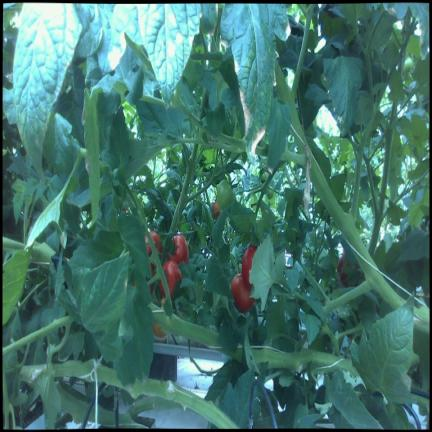6kp_petiole: (344, 243, 394, 305), (282, 120, 322, 186), (328, 178, 362, 254), (275, 59, 304, 137), (153, 278, 188, 338), (176, 177, 197, 214), (182, 143, 199, 182), (371, 193, 385, 239)
MainStem: (276, 60, 405, 311), (51, 358, 240, 429), (147, 302, 243, 363), (251, 347, 360, 376), (169, 144, 199, 234), (368, 198, 384, 257), (381, 129, 394, 194)
tomato: (160, 234, 188, 297), (231, 274, 255, 312), (337, 251, 361, 286), (242, 244, 257, 287), (169, 234, 189, 264), (216, 179, 234, 210), (145, 230, 162, 254), (212, 201, 220, 218), (404, 57, 412, 71), (266, 188, 274, 199), (261, 173, 266, 182)
